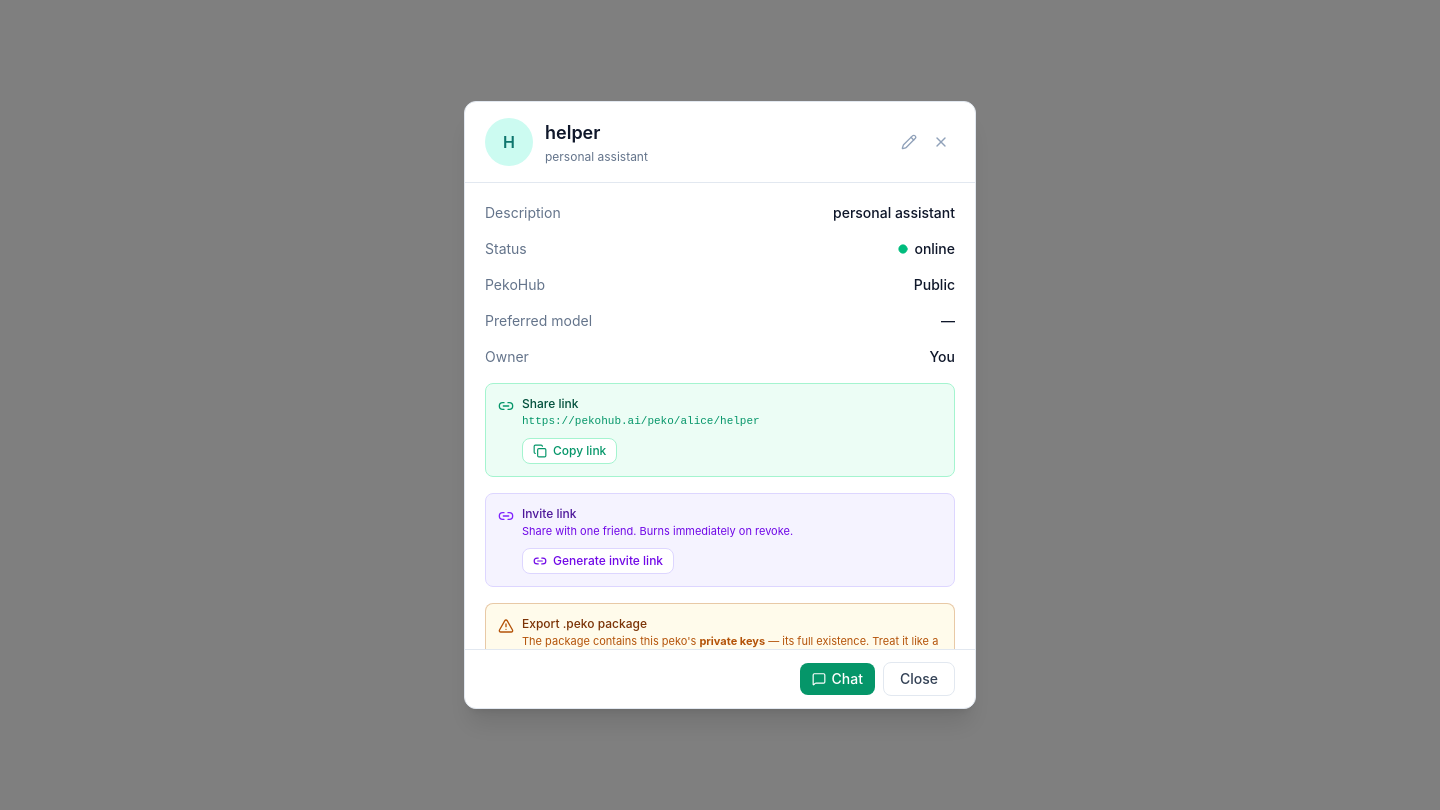
PrincipalProfileModal › renders the dedicated one-online-copy alert when registration rejects with [exposure_conflict]
Click the button titled "Edit": (909, 142) 895,128 -> 923,156
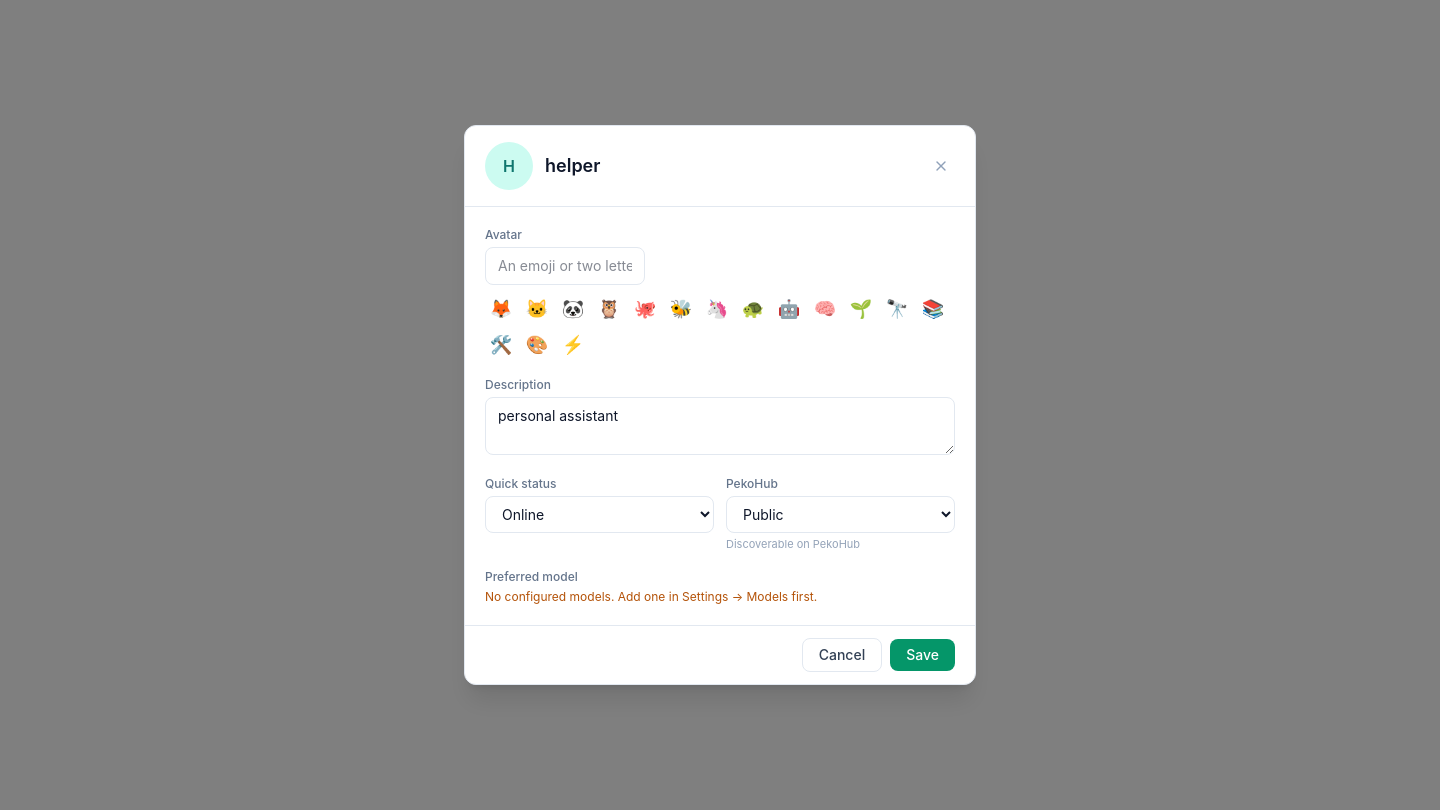
Select "Private" in the dropdown labelled "PekoHub": (840, 515) 726,496 -> 955,533
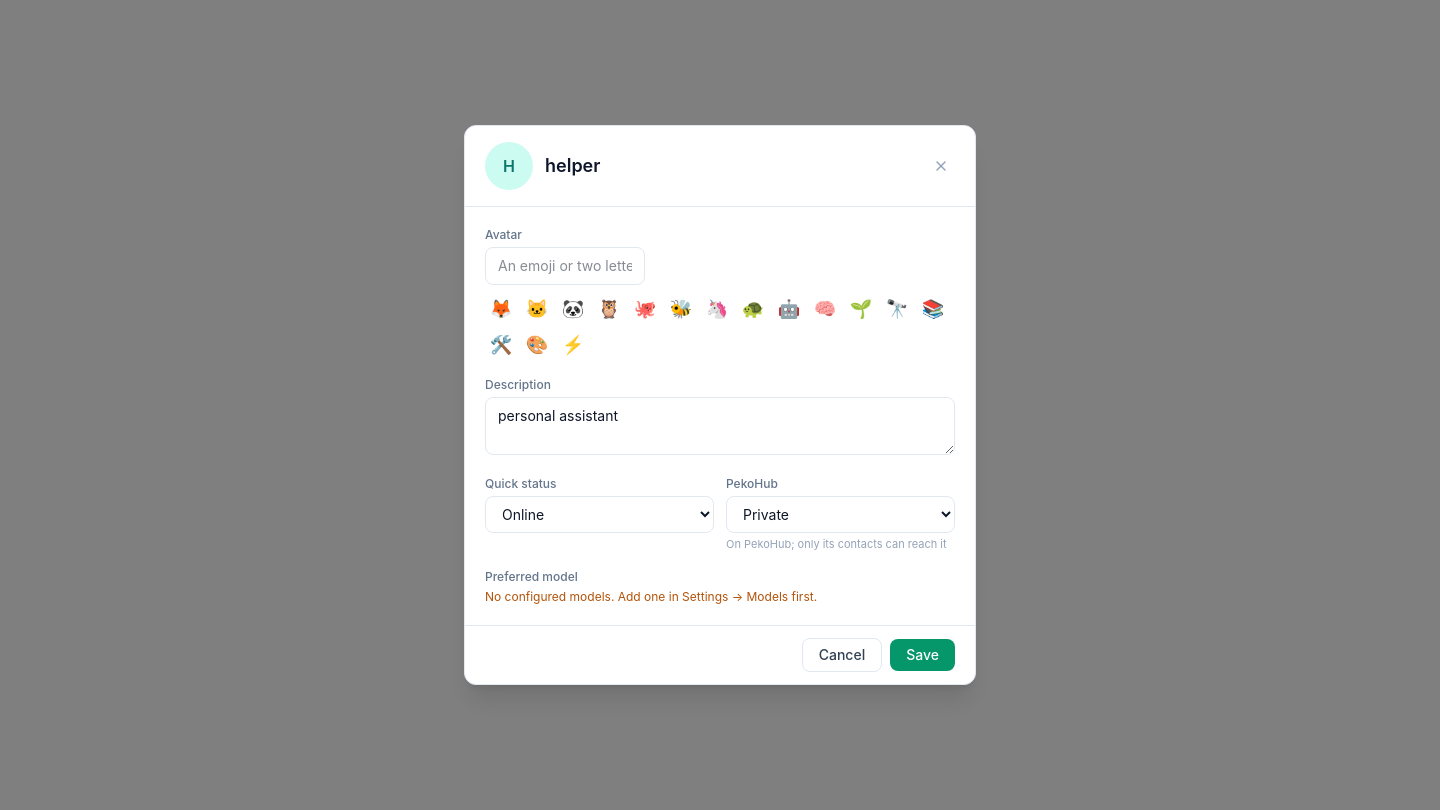
Click the button "Save": (923, 655) 890,639 -> 955,671
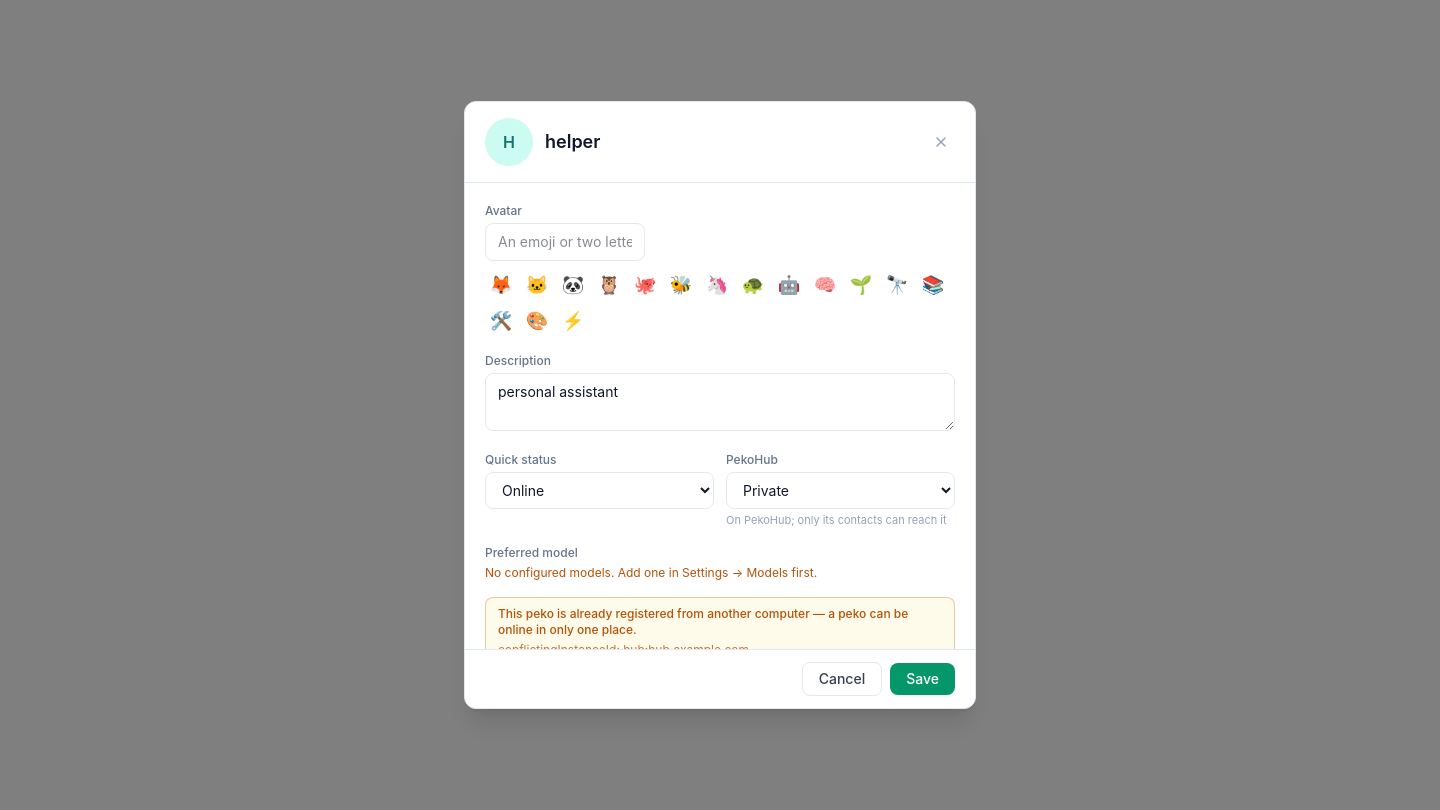
expect the element with test id "exposure-conflict" shows "already registered from another computer": met, box 498,606 -> 908,637
